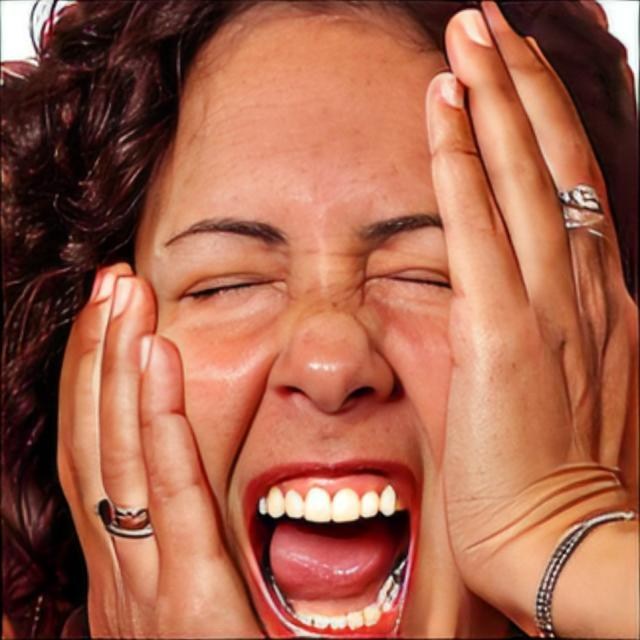anger: (86, 54, 540, 640)
